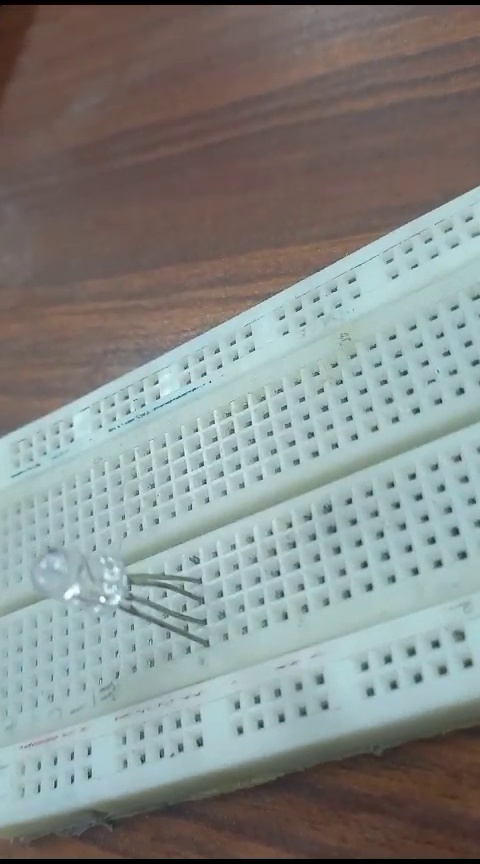LED: (27, 540, 226, 648)
